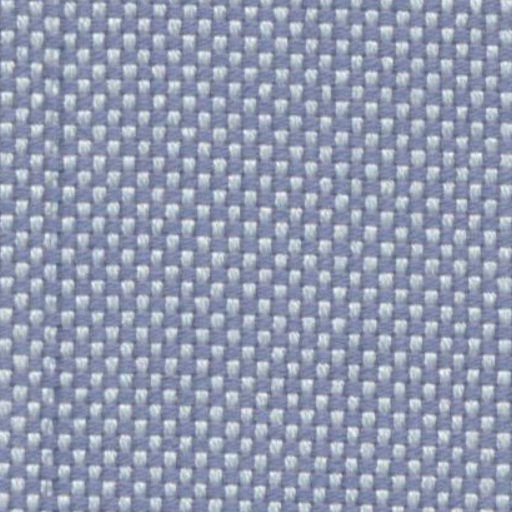TuoSha: (34, 14, 84, 508)
